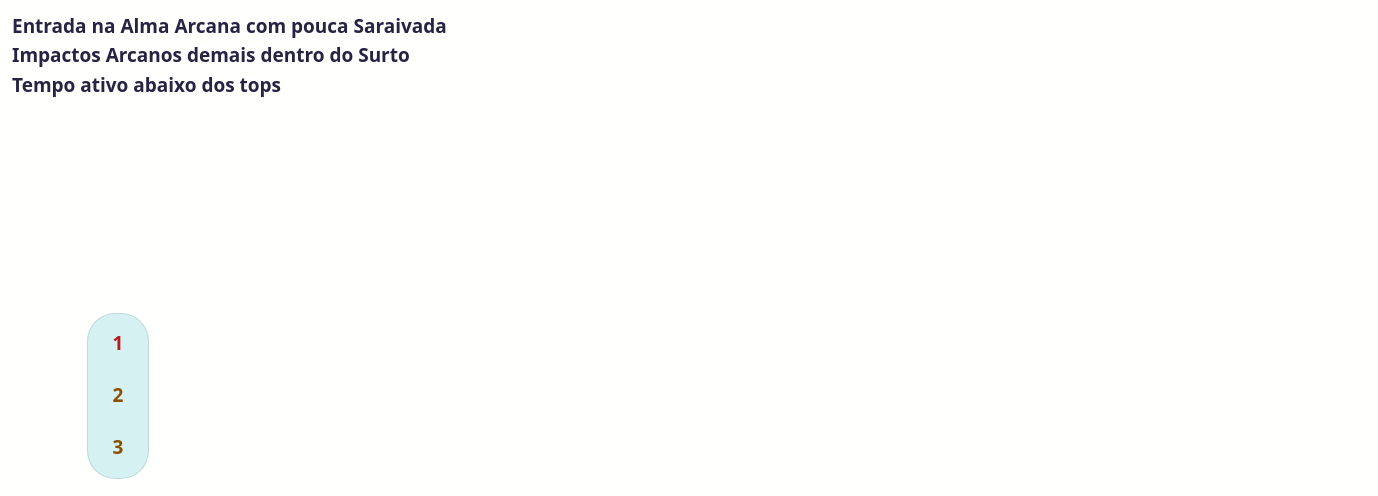
Test case: MistakeRail › clicar rola até o cartão, dá foco a ele, marca o link e não troca a rota (hash)
Click the link named "2.". click: (118, 395)
box: [113, 382, 124, 408]
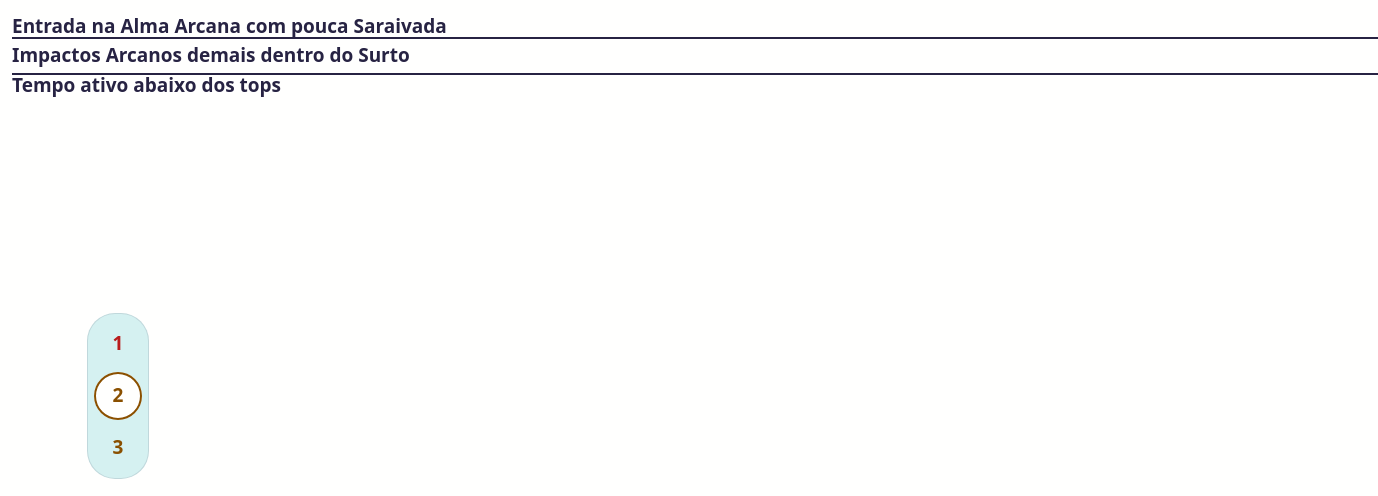
Check: the link named "2." is marked as current, box [94, 372, 142, 420]
